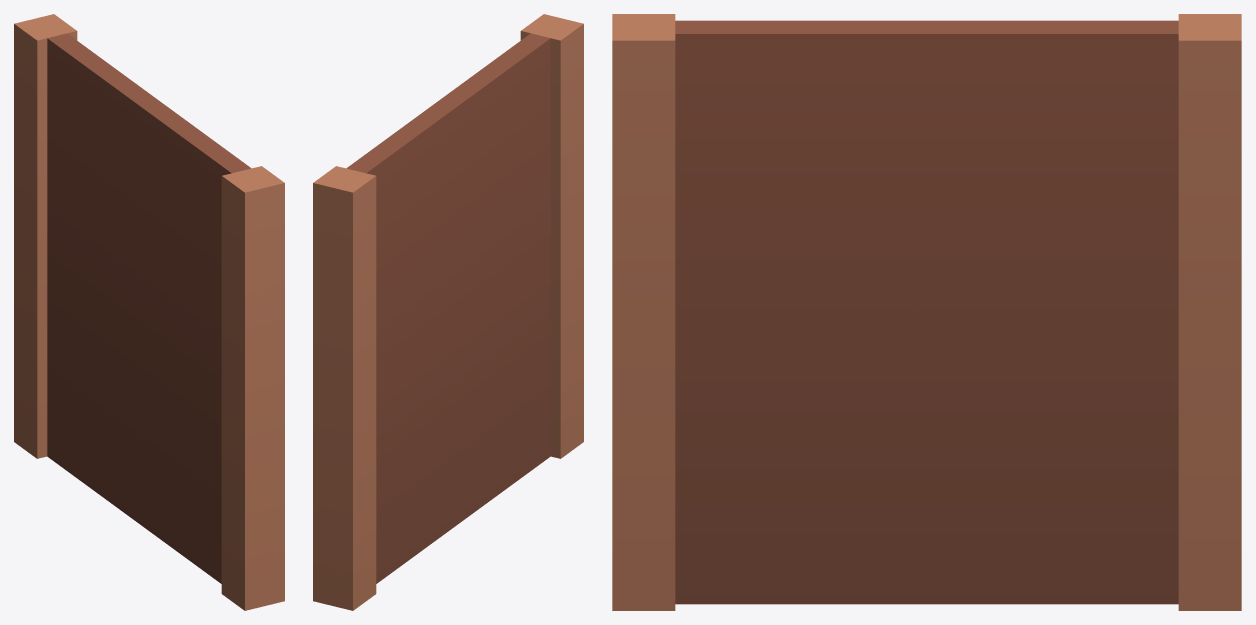
Rendered from wall-wood.obj.
3 renders of one model, left to right at view 1: azimuth 30°, elevation 25°; view 2: azimuth 150°, elevation 25°; view 3: azimuth 270°, elevation 25°, orthographic. The views are drawn at different scales.
Visible parts, largest first — view 1: wall-wood; view 2: wall-wood; view 3: wall-wood.
Part boxes in pixels (x1,y1,x2,y2): wall-wood: [14, 14, 284, 610]; wall-wood: [313, 14, 583, 610]; wall-wood: [612, 14, 1241, 610].
Bounding box in the file's own units: 0.1 × 1 × 1.
1 material, 1 textured.
